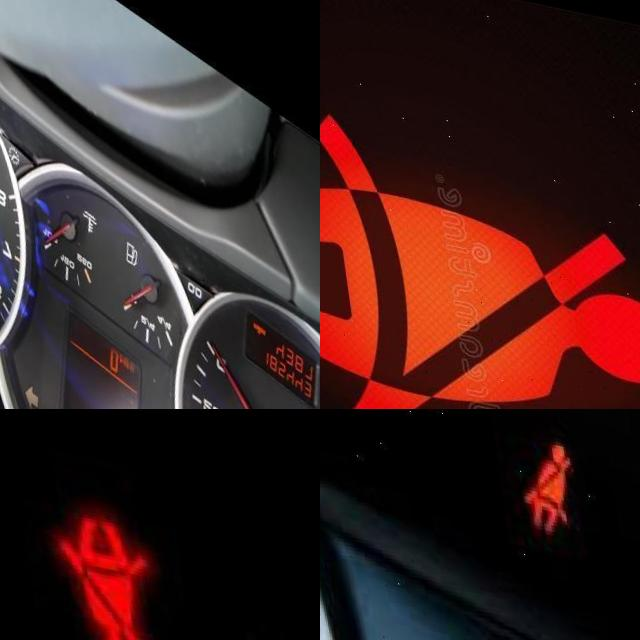Seat Belt: (320, 91, 640, 409), (52, 505, 159, 640), (507, 415, 579, 520)
